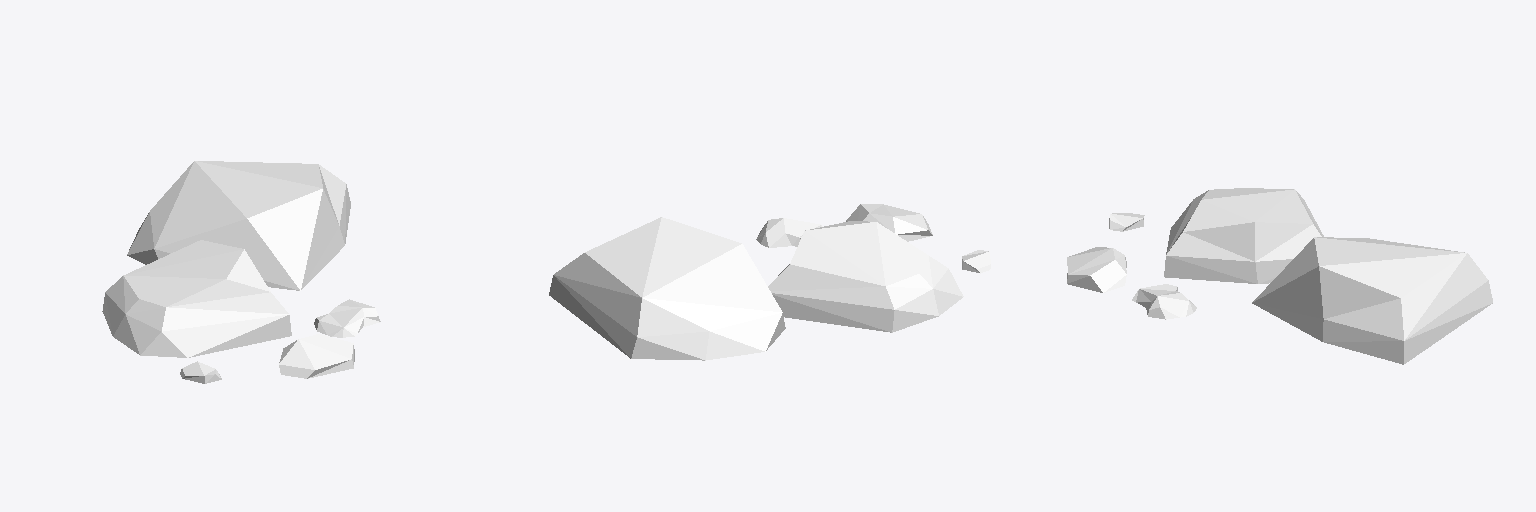
Rendered from stones_02.obj.
3 views of the same model, side by side, from view 1: azimuth 30°, elevation 25°; view 2: azimuth 150°, elevation 25°; view 3: azimuth 270°, elevation 25° (orthographic).
Bounding box in the file's own units: 1.67 × 0.3268 × 1.96.